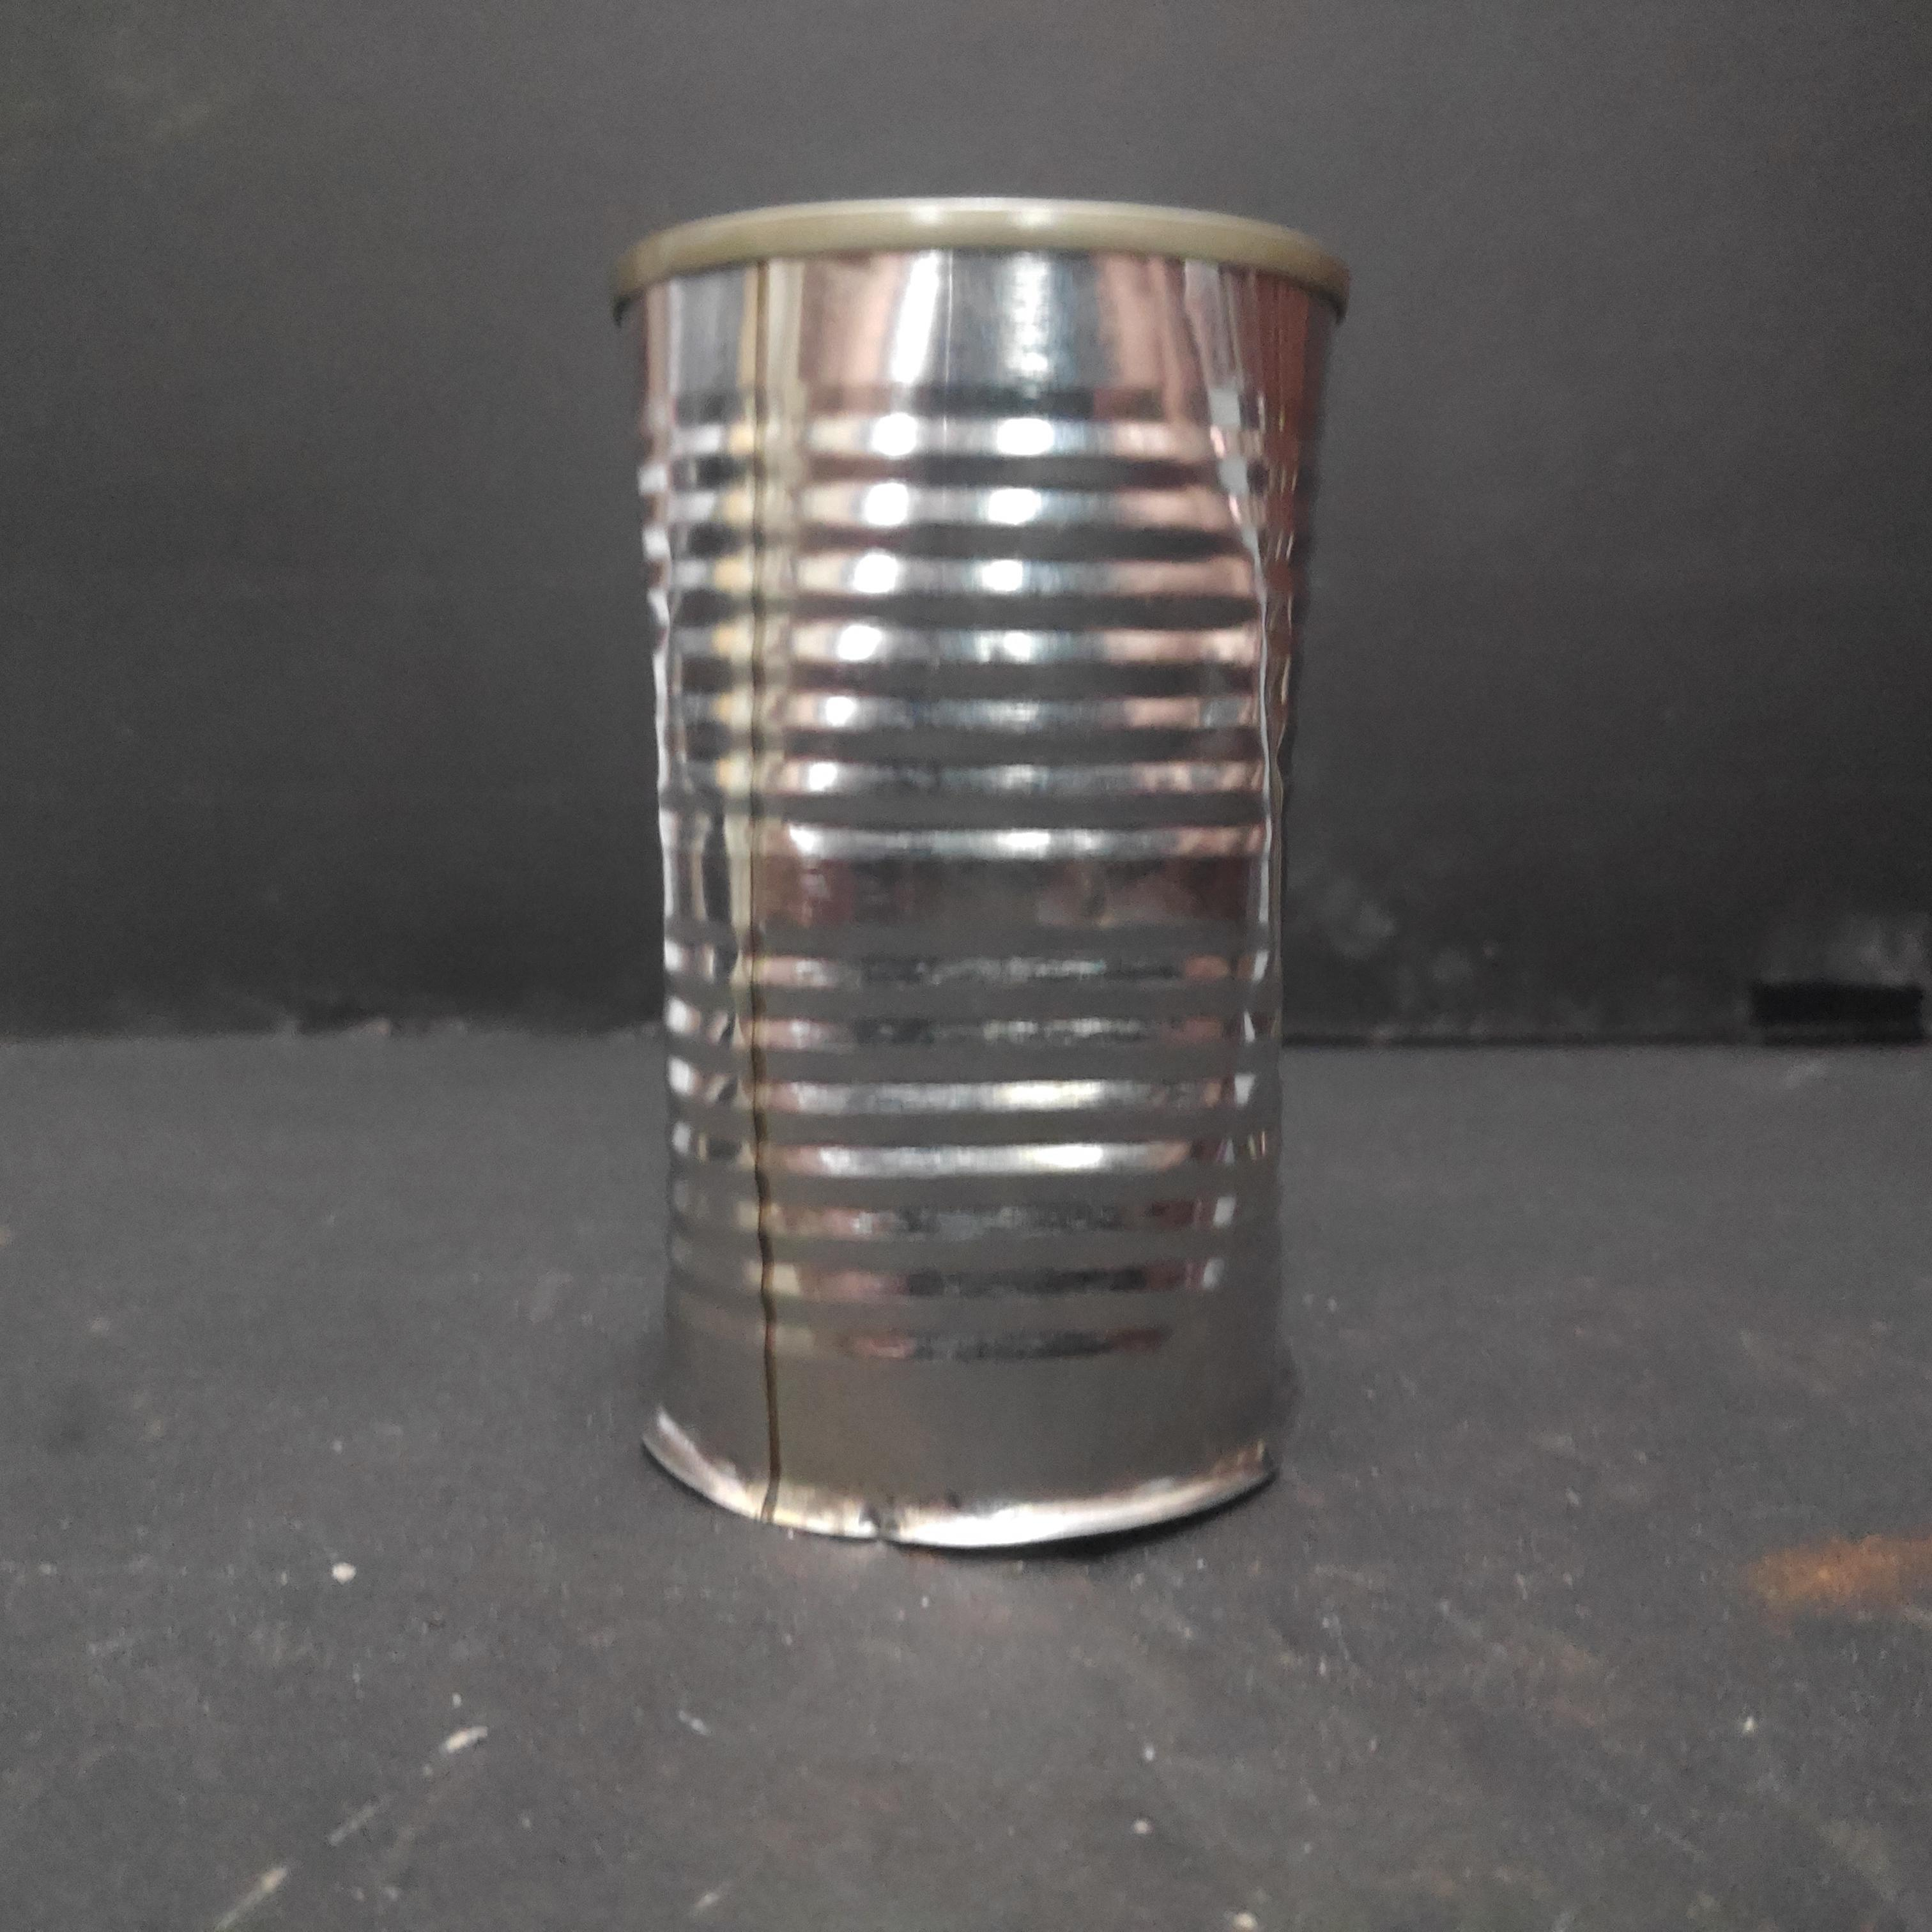Minor Defect: (602, 196, 1353, 1568)
